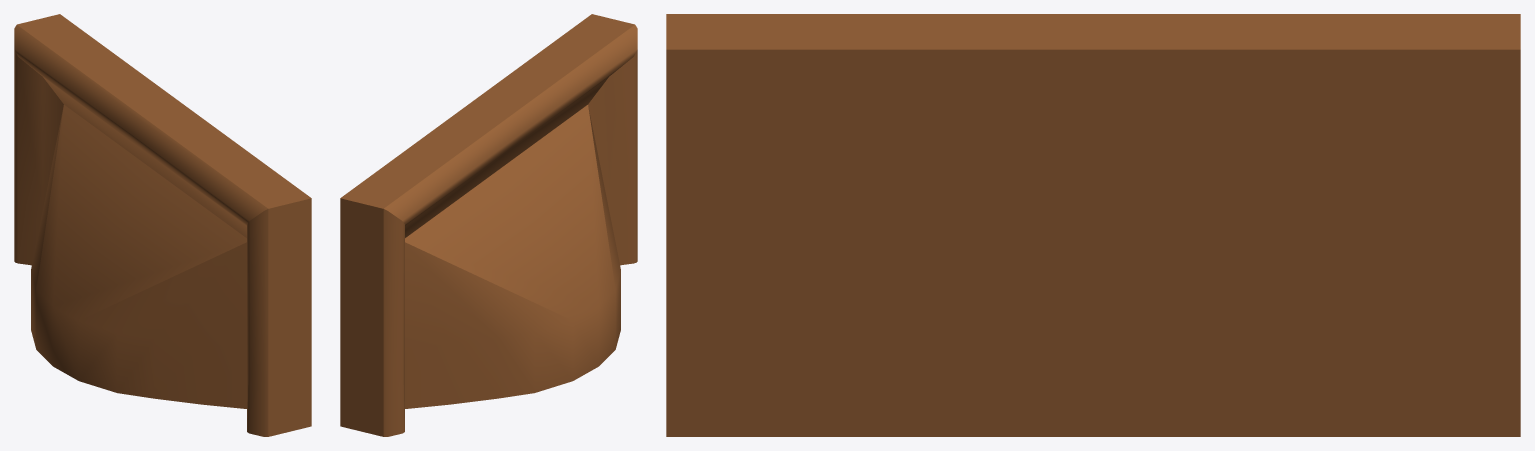
The model's file is 020_021_022_023_wall_deco_vert_1_join.glb.
3 views of the same model, side by side, from view 1: azimuth 30°, elevation 25°; view 2: azimuth 150°, elevation 25°; view 3: azimuth 270°, elevation 25° (orthographic). The views are drawn at different scales.
Parts seen in each view (by area): view 1: deco; view 2: deco; view 3: deco.
Boxes of the visible parts, <box> form: deco: <box>14,14,311,436</box>; deco: <box>340,14,637,436</box>; deco: <box>666,14,1520,436</box>.
Size of the model in its own units: 0.2282 by 0.375 by 0.75.
